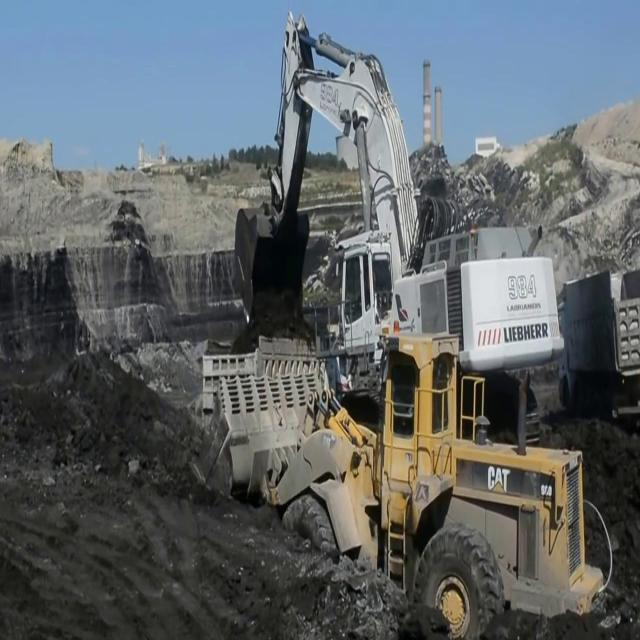buldozerpayloadergrader: (195, 324, 620, 633)
dump_truck: (560, 266, 640, 418)
excavator: (226, 0, 563, 381)
